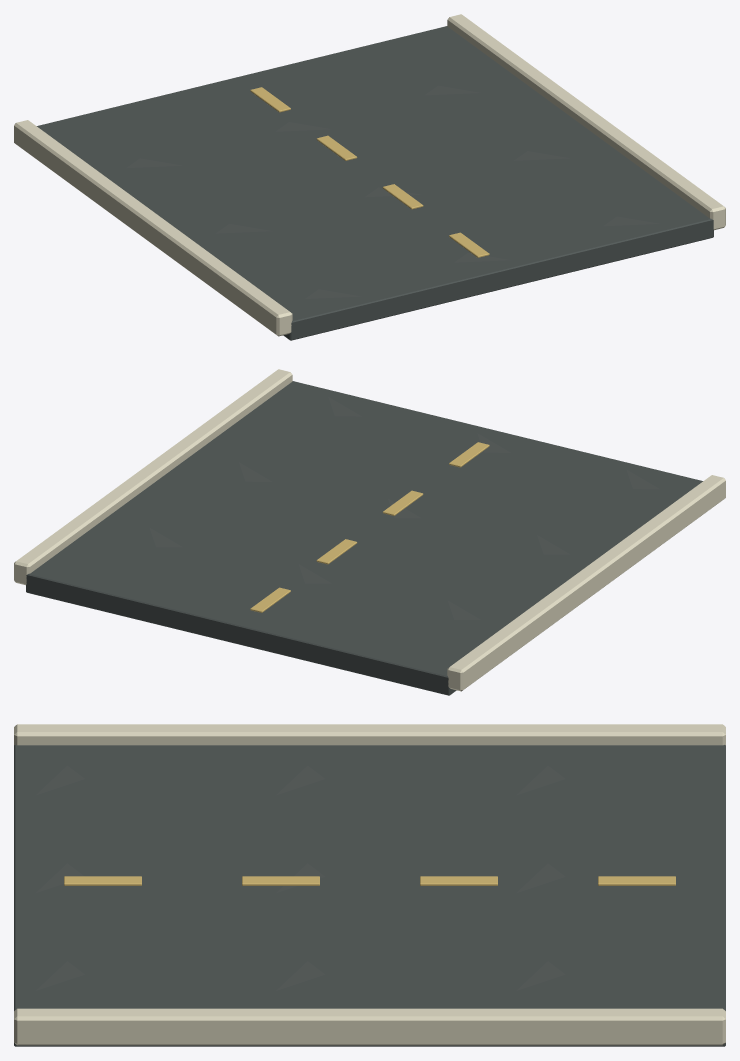
The model's file is road_straight.glb.
3 renders of one model, top to bottom at view 1: azimuth 30°, elevation 25°; view 2: azimuth 150°, elevation 25°; view 3: azimuth 270°, elevation 25°, orthographic. The views are drawn at different scales.
Visible parts, largest first — view 1: road_straight; view 2: road_straight; view 3: road_straight.
Boxes of the visible parts, x1=… form: road_straight: x1=14, y1=14, x2=725, y2=340; road_straight: x1=14, y1=369, x2=725, y2=695; road_straight: x1=14, y1=724, x2=725, y2=1046.
Size of the model in its own units: 3.92 by 0.235 by 4.
